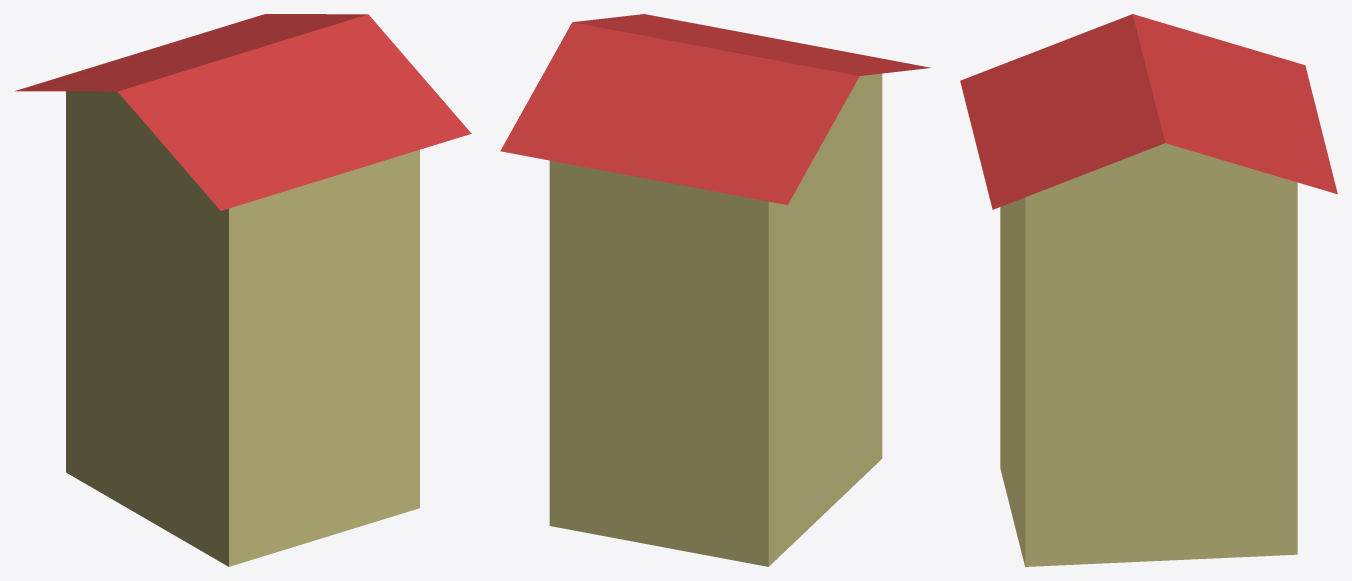
3 views of the same model, side by side, from view 1: azimuth 30°, elevation 25°; view 2: azimuth 150°, elevation 25°; view 3: azimuth 270°, elevation 25° (orthographic). The views are drawn at different scales.
Size of the model in its own units: 4.68 by 5.16 by 6.52.
